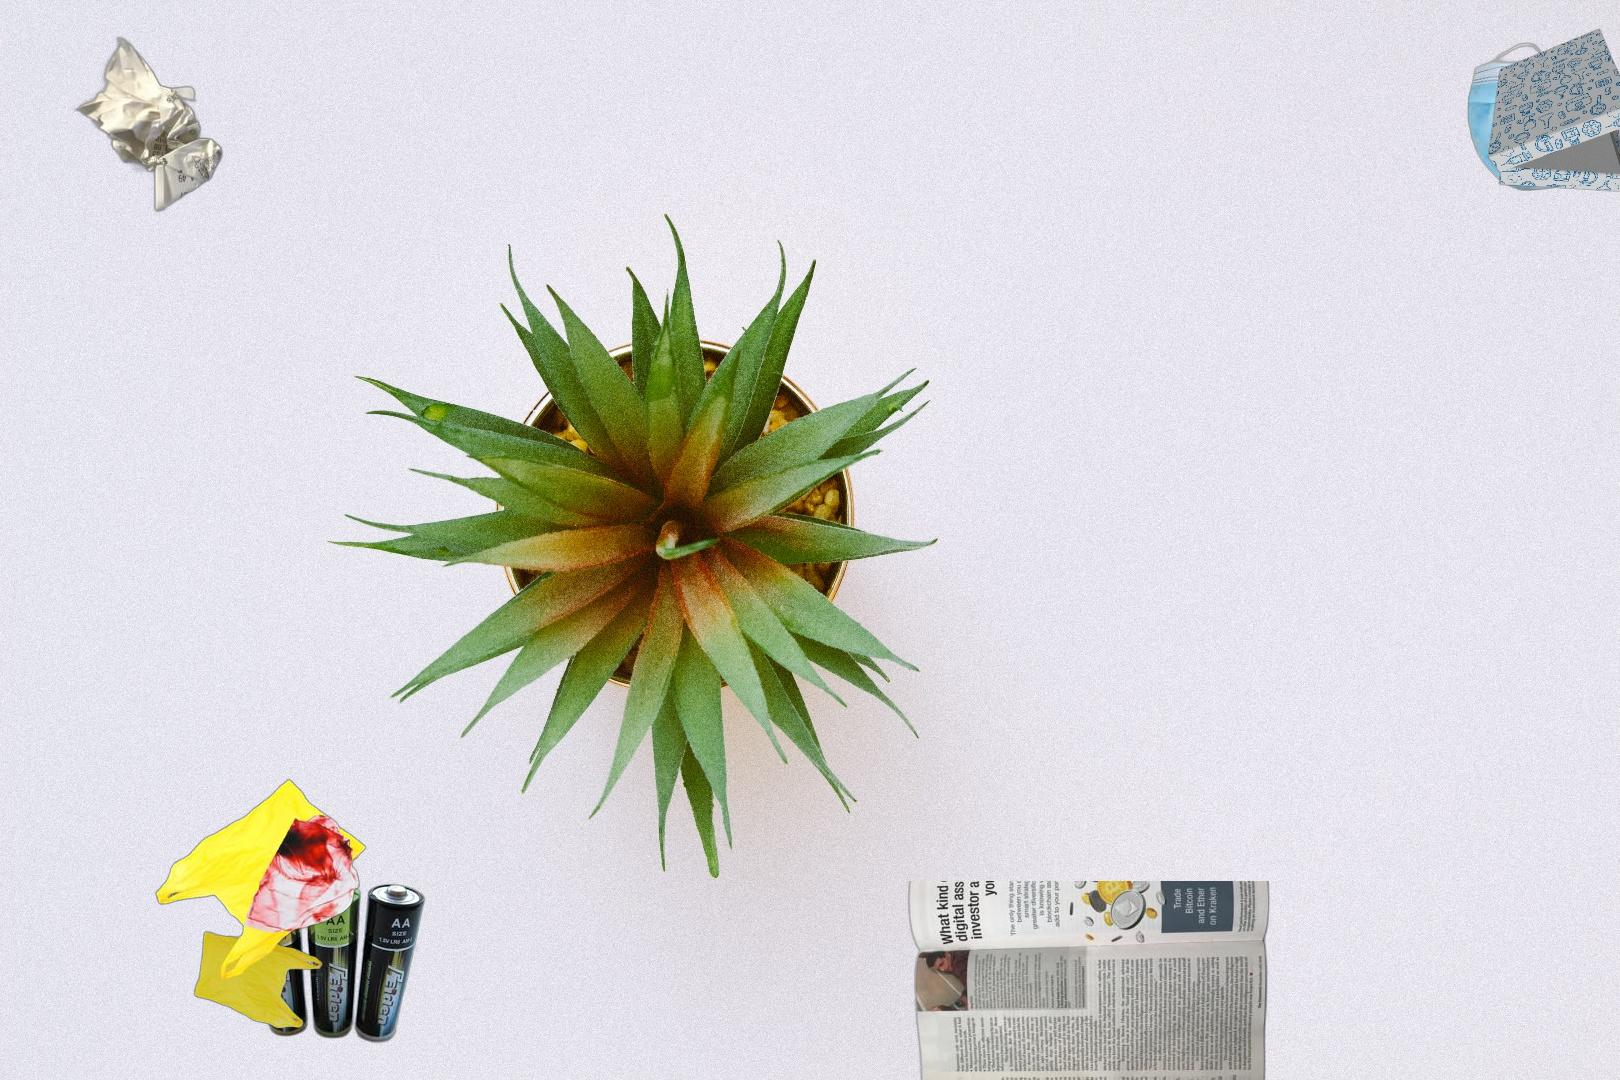battery: (242, 877, 460, 1053)
metal-cans: (1471, 456, 1620, 896)
paper: (905, 881, 1274, 1080), (71, 34, 227, 215)
plastic-bag: (153, 776, 369, 1031)
trash: (1465, 40, 1620, 193)
trashbox-cardboard: (1485, 28, 1620, 194)
